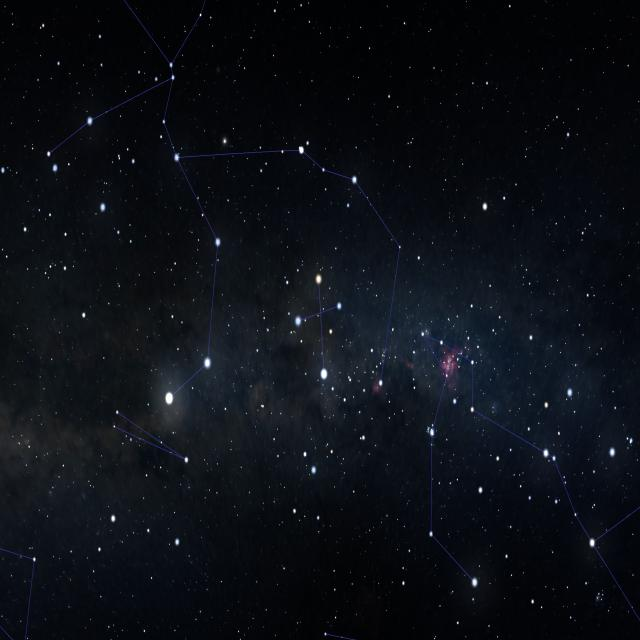Crux: (289, 266, 348, 386)
